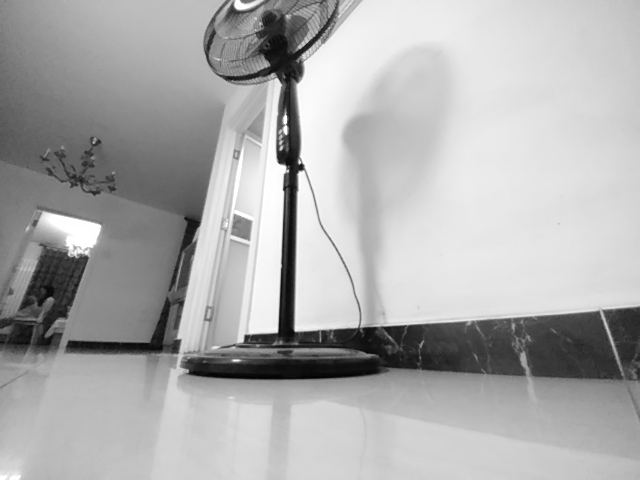bar stool: (179, 316, 387, 381)
